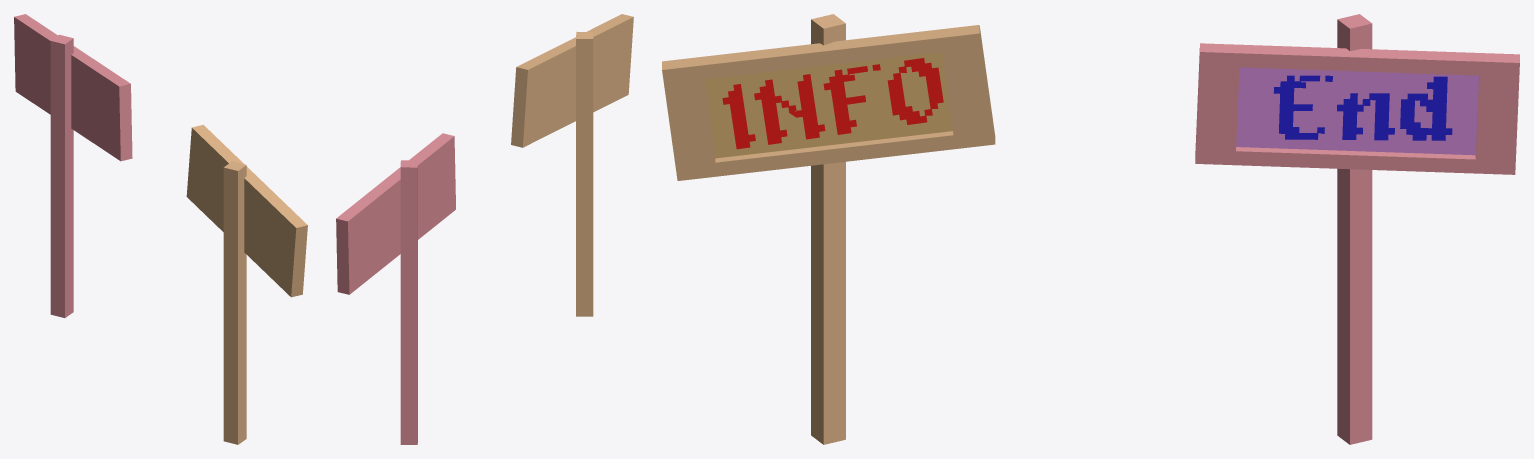
File: Sign.fbx
The picture shows the model from 3 angles, left to right: view 1: azimuth 30°, elevation 25°; view 2: azimuth 150°, elevation 25°; view 3: azimuth 270°, elevation 25°; orthographic projection. The views are drawn at different scales.
Parts seen in each view (by area): view 1: Cube.001, Cube.003, Cube.002, Cube; view 2: Cube.003, Cube.001, Cube, Cube.002; view 3: Cube.003, Cube.001, Cube.002, Cube, Text, Text.001.
Boxes of the visible parts, x1=… form: Cube.001: x1=186, y1=124, x2=307, y2=297; Cube.003: x1=14, y1=14, x2=132, y2=161; Cube.002: x1=50, y1=34, x2=73, y2=317; Cube: x1=223, y1=161, x2=246, y2=444; Cube.003: x1=336, y1=133, x2=455, y2=294; Cube.001: x1=511, y1=14, x2=633, y2=147; Cube: x1=576, y1=31, x2=593, y2=316; Cube.002: x1=400, y1=160, x2=417, y2=444; Cube.003: x1=1195, y1=43, x2=1519, y2=174; Cube.001: x1=662, y1=25, x2=995, y2=180; Cube.002: x1=1337, y1=14, x2=1372, y2=444; Cube: x1=811, y1=14, x2=845, y2=444; Text: x1=722, y1=58, x2=943, y2=149; Text.001: x1=1273, y1=75, x2=1452, y2=140.
Bounding box in the file's own units: 84.62 × 765 × 1425.
